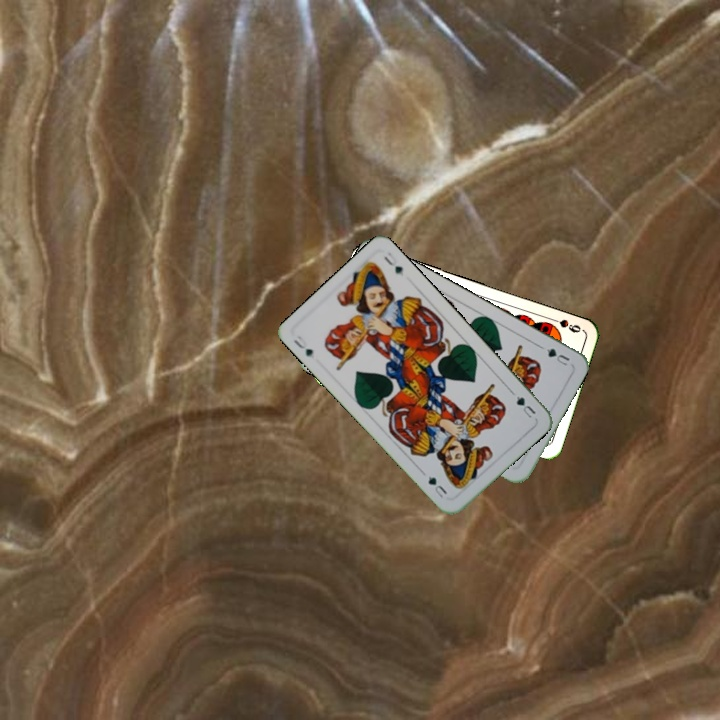GU: (289, 331, 316, 359), (512, 392, 538, 421), (542, 344, 572, 368)
S9: (545, 314, 583, 335)
